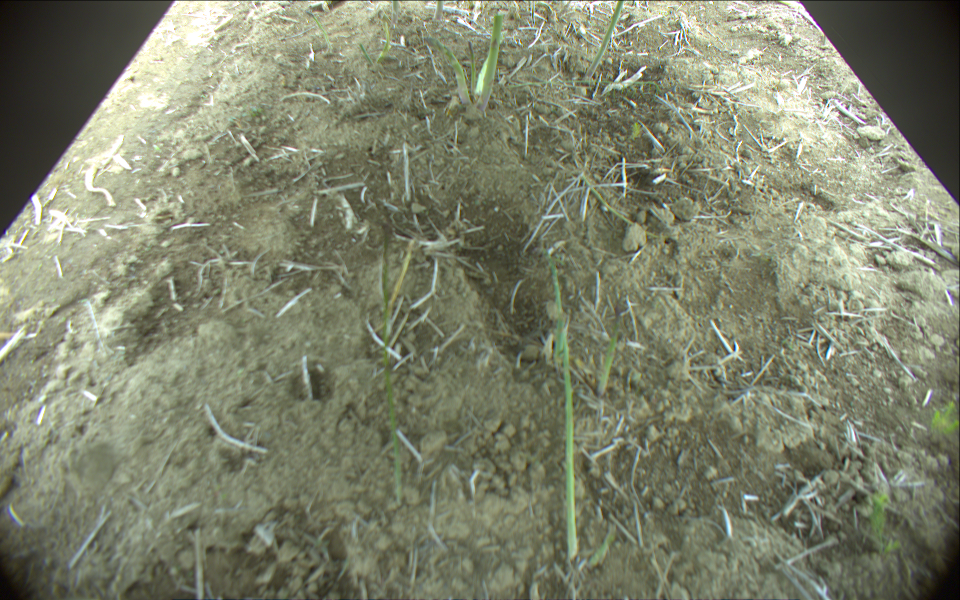aspa: (379, 224, 412, 504), (550, 265, 579, 556), (578, 172, 657, 239), (426, 36, 471, 113), (476, 13, 505, 123), (583, 1, 623, 79), (596, 301, 621, 392), (305, 10, 335, 49), (371, 23, 392, 67), (433, 1, 443, 27)
